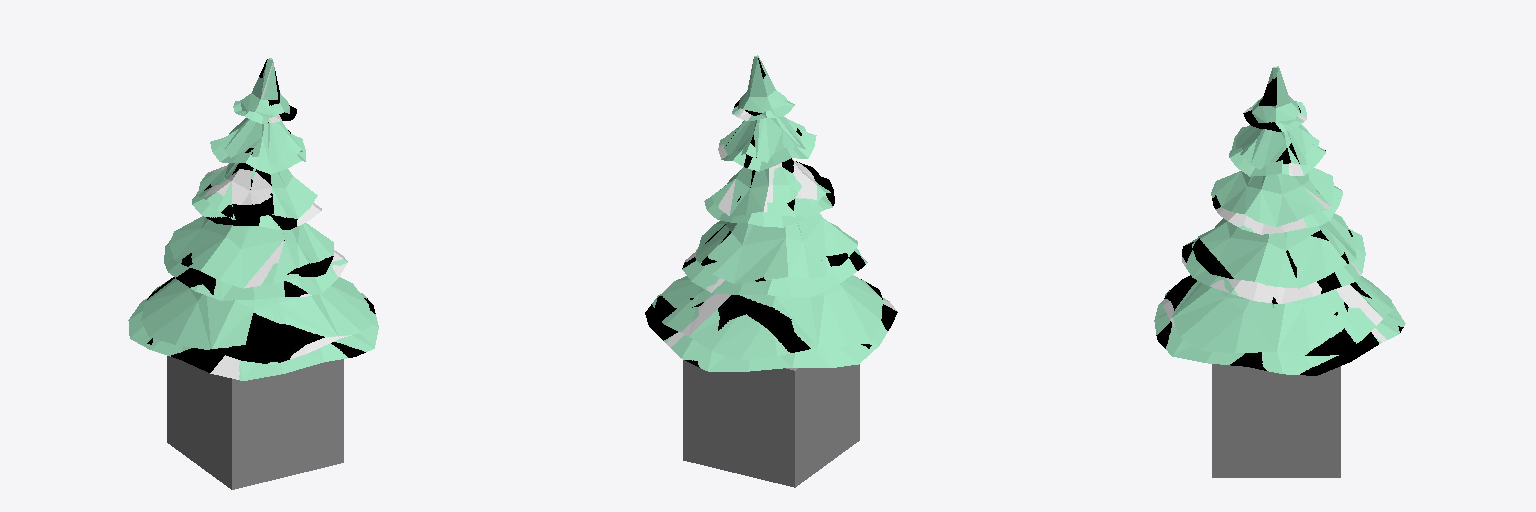
3 renders of one model, left to right at view 1: azimuth 30°, elevation 25°; view 2: azimuth 150°, elevation 25°; view 3: azimuth 270°, elevation 25°, orthographic.
Parts seen in each view (by area): view 1: Cone.005_Cone.006, Cube; view 2: Cone.005_Cone.006, Cube; view 3: Cone.005_Cone.006, Cube.
Boxes of the visible parts, box(x1,y1,x2,y2) form: Cone.005_Cone.006: box(128, 58, 378, 380); Cube: box(167, 356, 343, 489); Cone.005_Cone.006: box(645, 55, 897, 371); Cube: box(683, 360, 859, 487); Cone.005_Cone.006: box(1154, 66, 1405, 375); Cube: box(1212, 364, 1340, 477).
Size of the model in its own units: 3.89 by 6.67 by 3.89.
Materials: 3 (1 with a texture image).